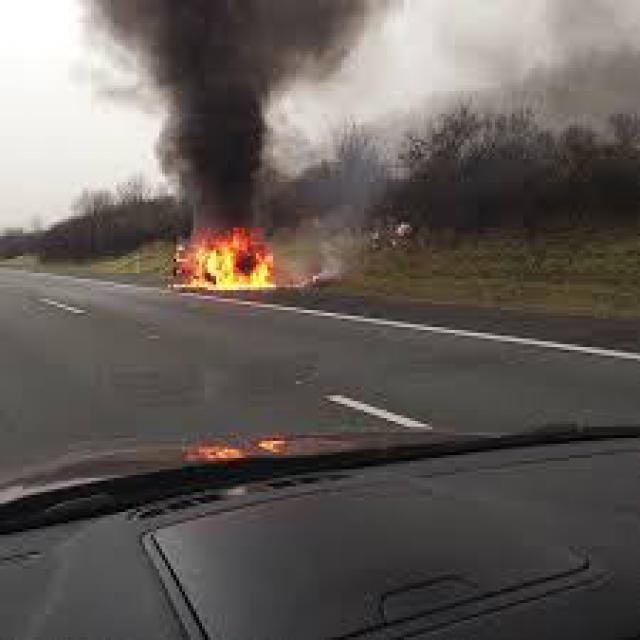fire: (157, 223, 294, 305)
